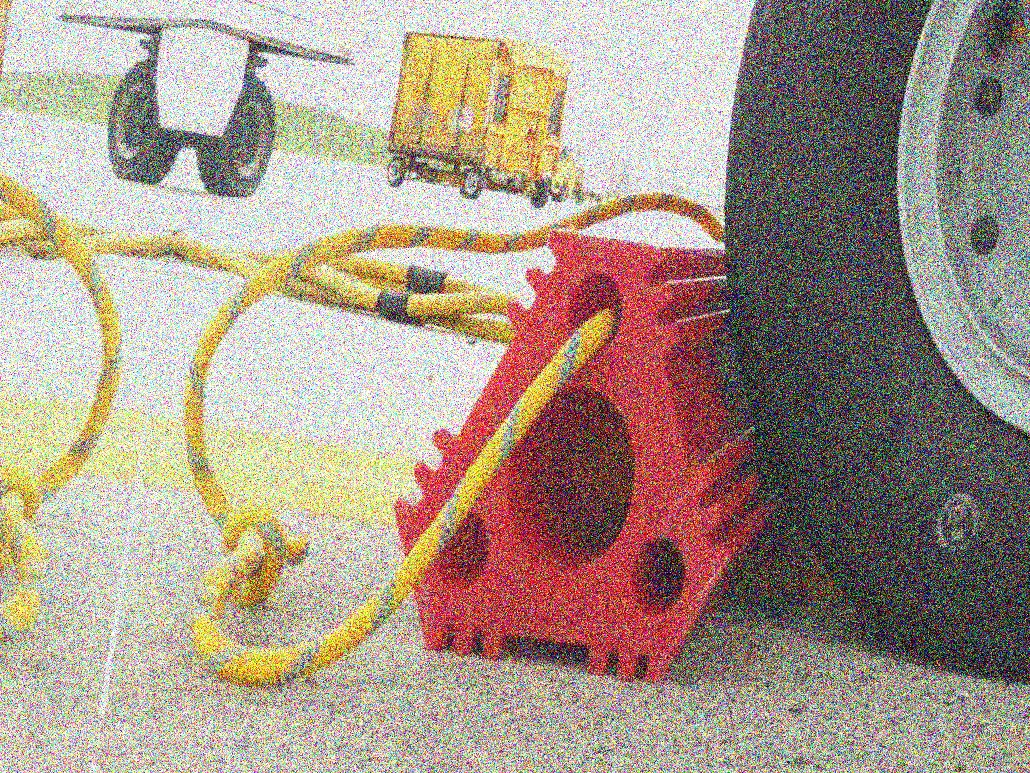chock: (371, 199, 828, 705)
wheel: (652, 0, 1030, 682), (193, 74, 282, 201), (100, 60, 189, 186), (460, 164, 486, 199), (386, 154, 409, 189), (529, 175, 552, 208), (554, 175, 573, 205)
